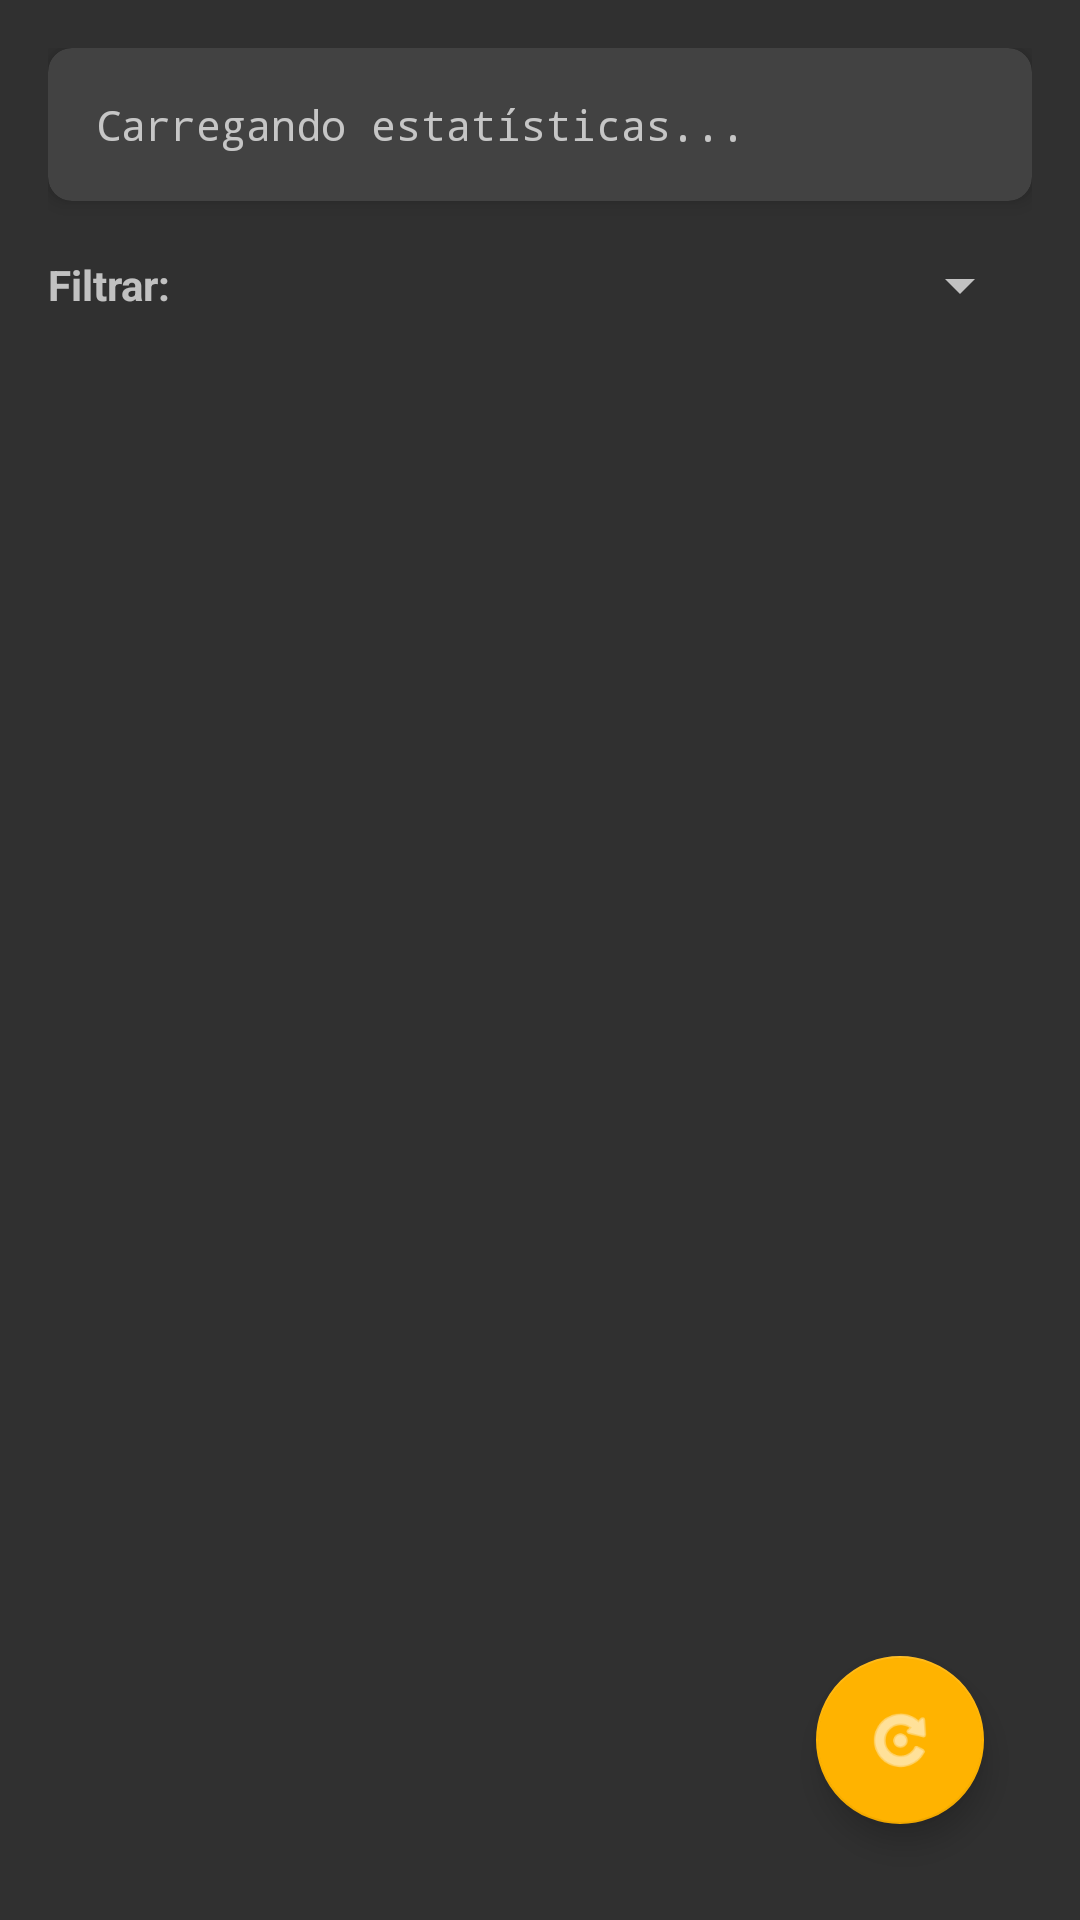

Icon click points for this 1080w x 1920h phone screenshot, format (x,y):
rotate: (900,1740)
